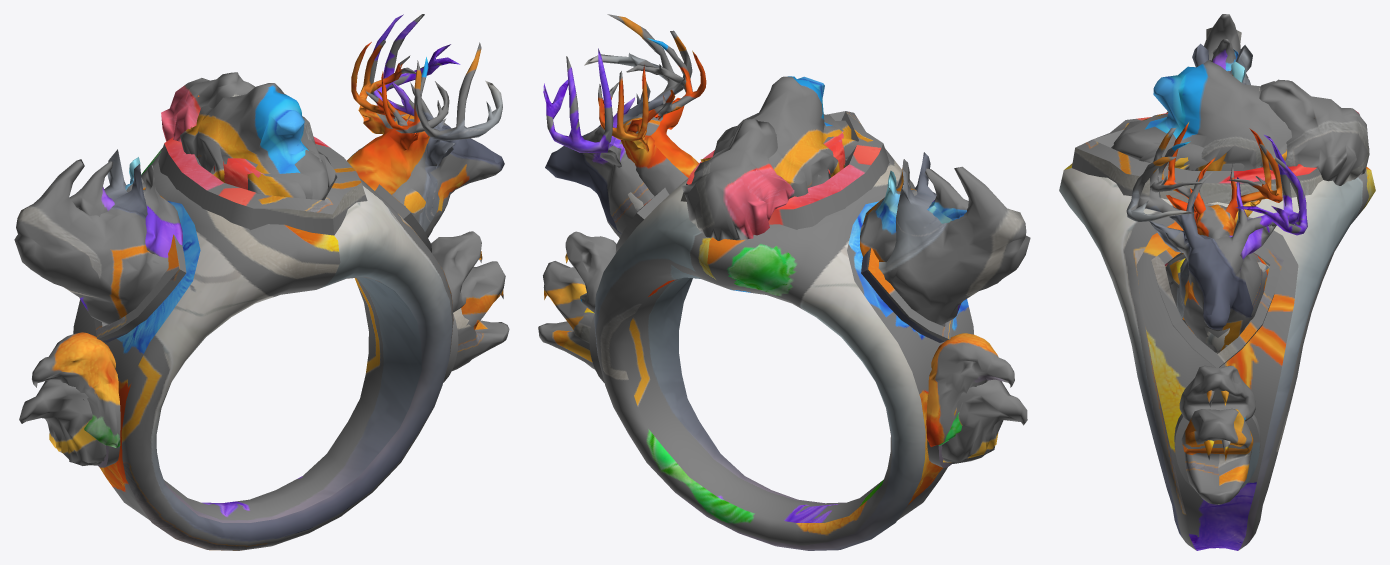
Rendered from RING_LOW.fbx.
The picture shows the model from 3 angles, left to right: view 1: azimuth 30°, elevation 25°; view 2: azimuth 150°, elevation 25°; view 3: azimuth 270°, elevation 25°; orthographic projection. The views are drawn at different scales.
Visible parts, largest first — view 1: ring_area_low, rhino_Low1, lion_Low1, deer_Low1, ring_slot_1, deer_golden_low1, Eagle_golden_low1, Eagle_Low1, Snake_Low1, rhino_golden_low1, ring_slot_2, lion_golden_low1 (+3 smaller); view 2: ring_area_low, rhino_Low1, deer_Low1, lion_golden_low1, lion_Low1, deer_golden_low1, Eagle_golden_low1, ring_slot_1, Eagle_Low1, rhino_golden_low1, Snake_Low1, ring_slot_2 (+3 smaller); view 3: ring_area_low, deer_Low1, lion_Low1, lion_golden_low1, ring_slot_1, Snake_Low1, deer_golden_low1, ring_slot_2, Snake_golden_low1, rhino_Low1, ring_slot_3, blue (+2 smaller).
Part boxes in pixels (x1=…): ring_area_low: x1=73, y1=148, x2=453, y2=550; rhino_Low1: x1=14, y1=149, x2=168, y2=324; lion_Low1: x1=180, y1=83, x2=335, y2=199; deer_Low1: x1=369, y1=14, x2=504, y2=237; ring_slot_1: x1=158, y1=136, x2=367, y2=235; deer_golden_low1: x1=347, y1=40, x2=449, y2=194; Eagle_golden_low1: x1=32, y1=332, x2=120, y2=447; Eagle_Low1: x1=19, y1=379, x2=106, y2=465; Snake_Low1: x1=452, y1=261, x2=509, y2=370; rhino_golden_low1: x1=69, y1=157, x2=182, y2=257; ring_slot_2: x1=94, y1=184, x2=431, y2=342; lion_golden_low1: x1=161, y1=72, x2=254, y2=142; ring_area_low: x1=594, y1=148, x2=973, y2=550; rhino_Low1: x1=878, y1=152, x2=1030, y2=325; deer_Low1: x1=543, y1=14, x2=692, y2=238; lion_golden_low1: x1=681, y1=119, x2=794, y2=240; lion_Low1: x1=700, y1=76, x2=858, y2=196; deer_golden_low1: x1=598, y1=38, x2=706, y2=195; Eagle_golden_low1: x1=926, y1=333, x2=1014, y2=446; ring_slot_1: x1=681, y1=111, x2=889, y2=229; Eagle_Low1: x1=941, y1=379, x2=1027, y2=463; rhino_golden_low1: x1=860, y1=159, x2=968, y2=261; Snake_Low1: x1=538, y1=261, x2=594, y2=369; ring_slot_2: x1=615, y1=187, x2=952, y2=342; ring_area_low: x1=1059, y1=163, x2=1375, y2=550; deer_Low1: x1=1126, y1=127, x2=1307, y2=352; lion_Low1: x1=1111, y1=60, x2=1291, y2=170; lion_golden_low1: x1=1257, y1=79, x2=1369, y2=185; ring_slot_1: x1=1072, y1=117, x2=1323, y2=204; Snake_Low1: x1=1181, y1=408, x2=1253, y2=504; deer_golden_low1: x1=1151, y1=122, x2=1282, y2=238; ring_slot_2: x1=1151, y1=246, x2=1283, y2=367; Snake_golden_low1: x1=1179, y1=365, x2=1255, y2=421; rhino_Low1: x1=1166, y1=14, x2=1252, y2=113; ring_slot_3: x1=1174, y1=413, x2=1260, y2=488; blue: x1=1118, y1=113, x2=1244, y2=170.
Bounding box in the file's own units: 38.69 × 35.41 × 21.23.
